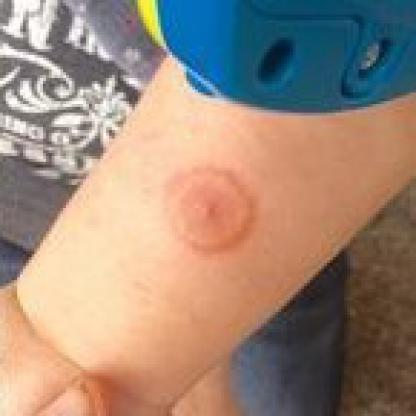Tick: (152, 156, 261, 254)
